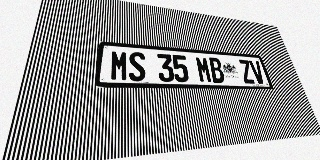3: (157, 53, 175, 82)
5: (172, 55, 190, 82)
B: (208, 57, 226, 83)
M: (110, 50, 128, 81), (195, 56, 213, 83)
S: (129, 51, 146, 81)
V: (248, 60, 266, 84)
Z: (238, 59, 256, 84)
